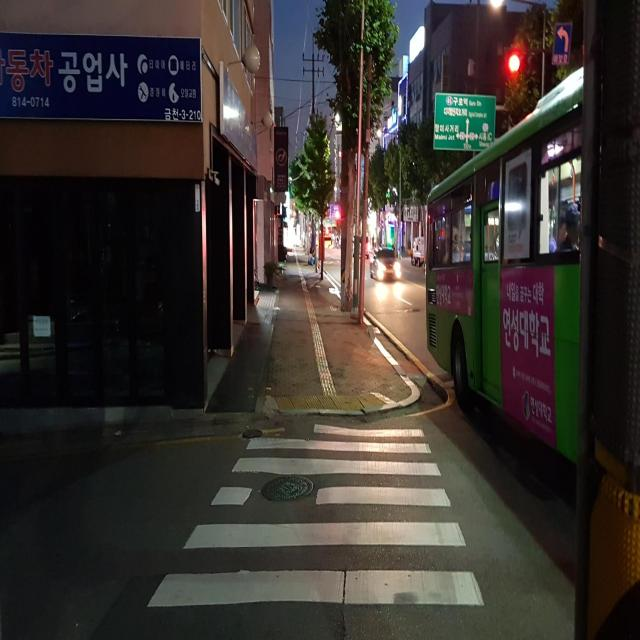횡단보도: (146, 419, 486, 611)
